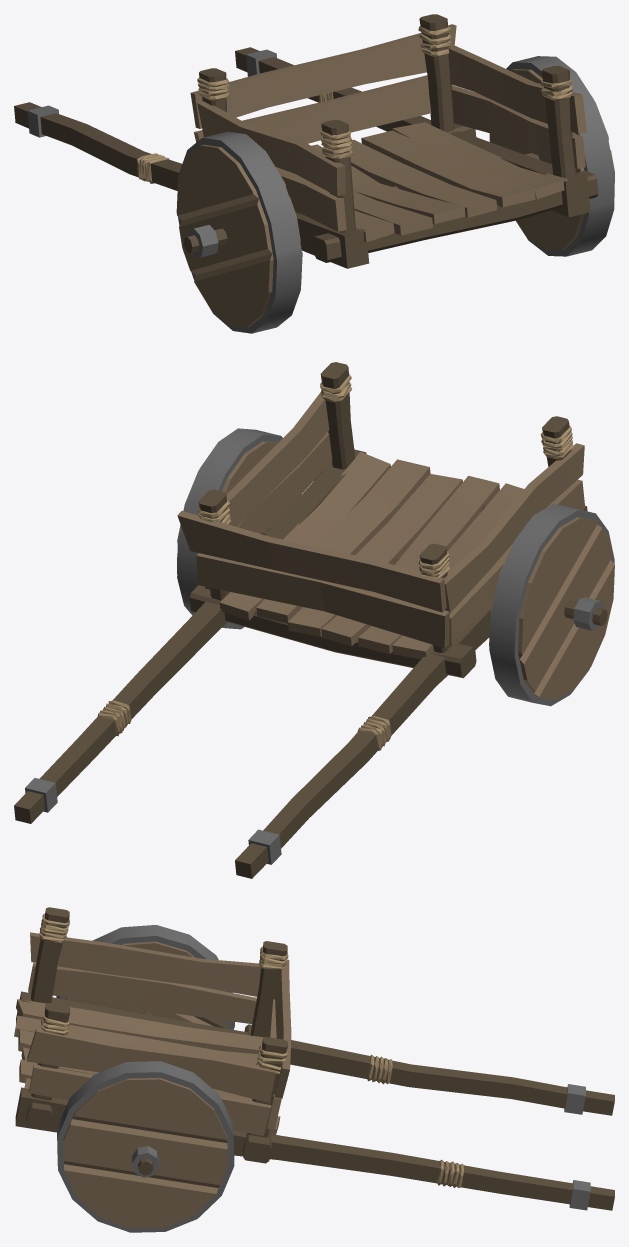
The model's file is cart_b.FBX.
3 views of the same model, one above another, from view 1: azimuth 30°, elevation 25°; view 2: azimuth 150°, elevation 25°; view 3: azimuth 270°, elevation 25° (orthographic). The views are drawn at different scales.
Visible parts, largest first — view 1: cart_b; view 2: cart_b; view 3: cart_b.
Part boxes in pixels (<box>): cart_b: <box>14,14,614,333</box>; cart_b: <box>14,362,614,878</box>; cart_b: <box>14,907,614,1232</box>.
Size of the model in its own units: 1.93 by 1.01 by 2.73.
